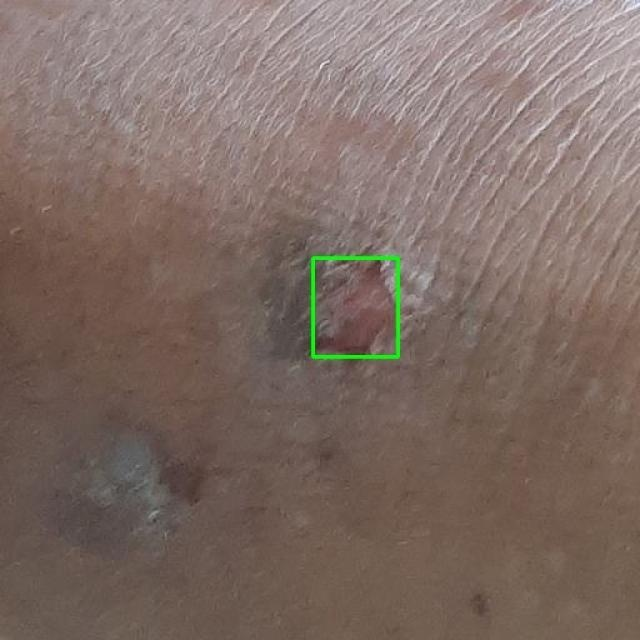Eczema: (312, 258, 398, 356)
